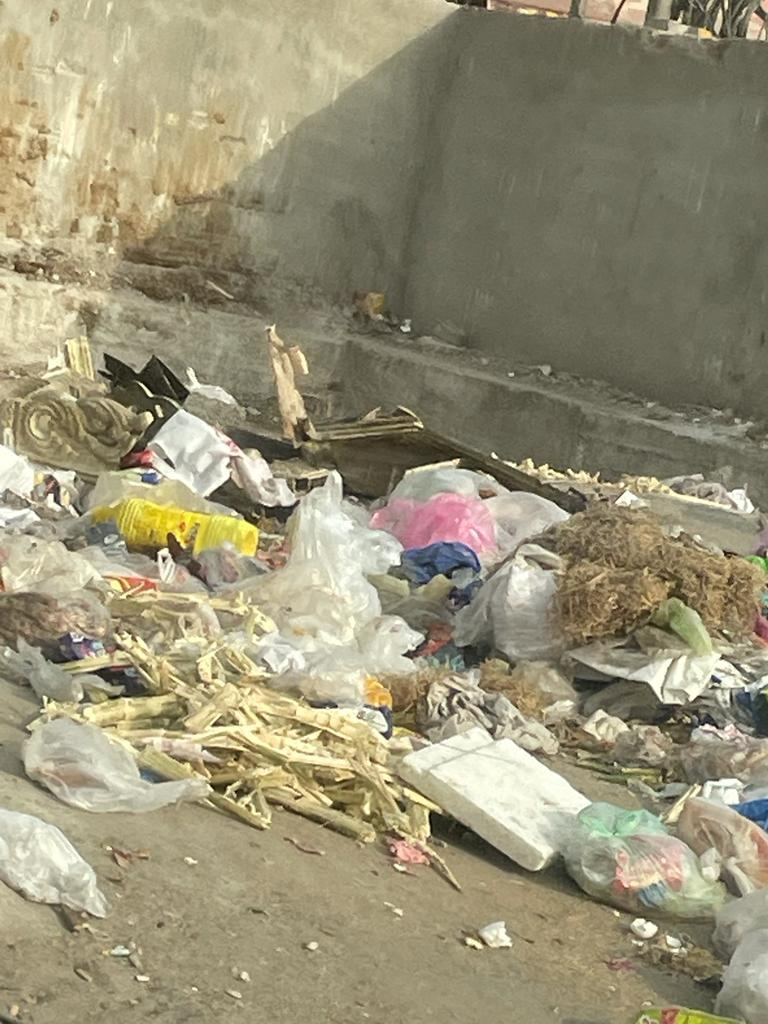garbage: (0, 294, 768, 969)
